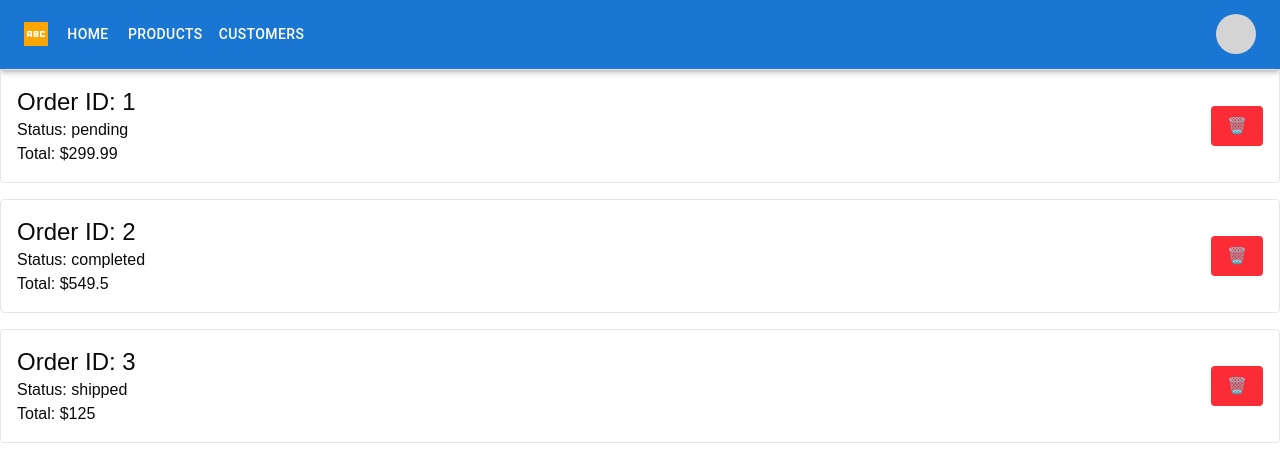
Test: Home component › should delete an order when delete button is clicked
Expected: the heading "Order ID: 1" is shown, 17,86 -> 136,118
Click the button named "delete order 1".
click(1237, 126)  # box 1211,106 -> 1263,146
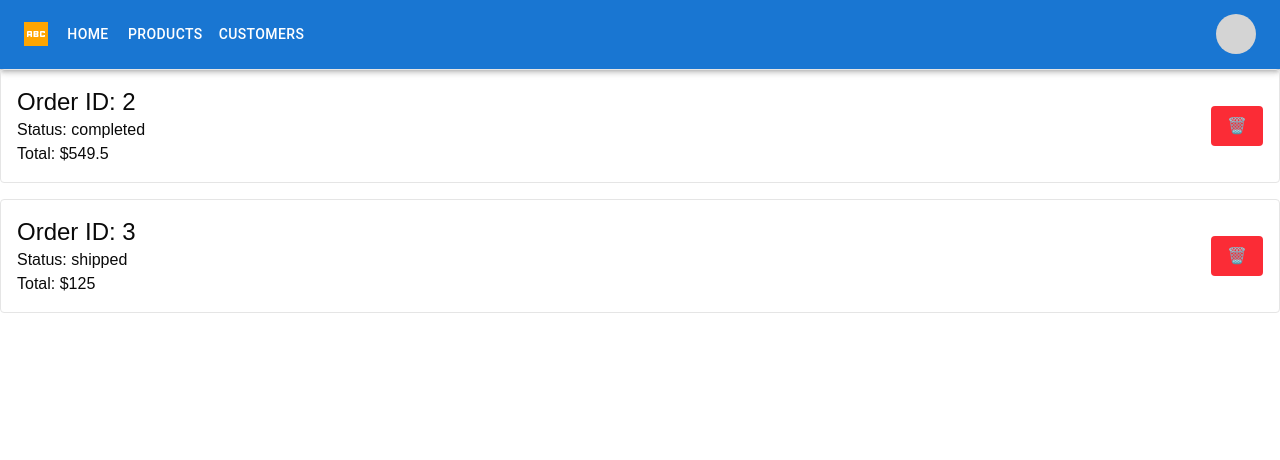
Expected: the heading "Order ID: 1" is gone
